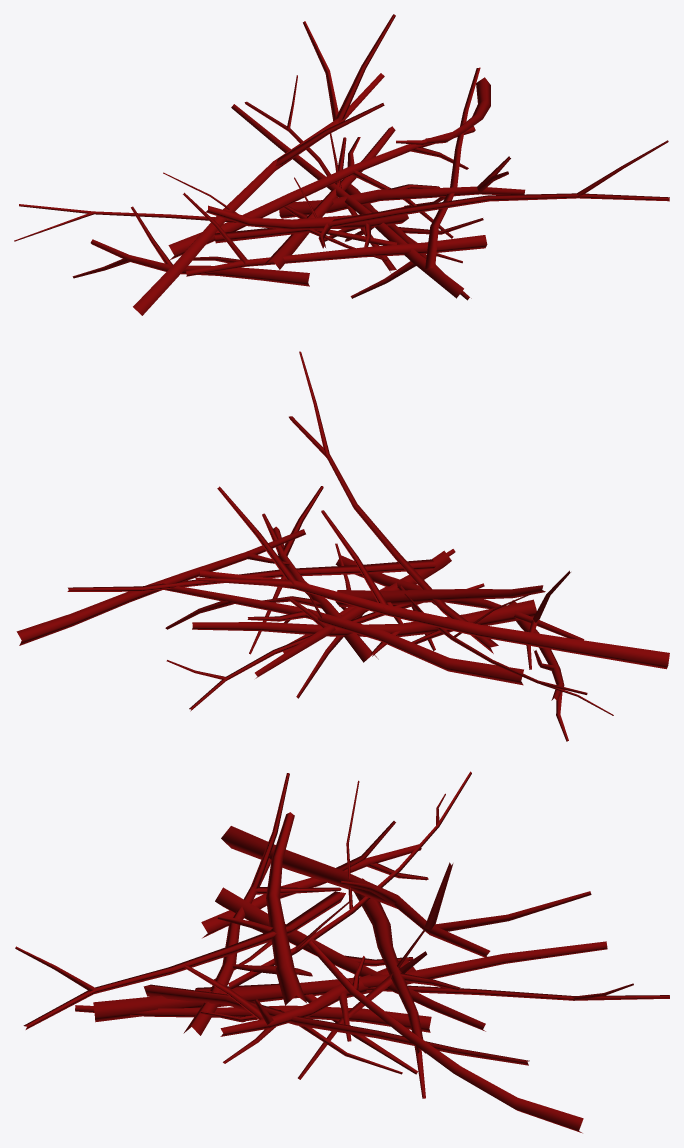
The model's file is branch_pile_a.glb.
3 renders of one model, top to bottom at view 1: azimuth 30°, elevation 25°; view 2: azimuth 150°, elevation 25°; view 3: azimuth 270°, elevation 25°, orthographic. The views are drawn at different scales.
Parts seen in each view (by area): view 1: LOD0; view 2: LOD0; view 3: LOD0.
Boxes of the visible parts, x1,y1,x2,y2 form: LOD0: (14, 14, 669, 315); LOD0: (16, 351, 669, 741); LOD0: (15, 771, 669, 1133).
Size of what is drawn, in the model's own units: 2.91 by 1.06 by 2.52.
